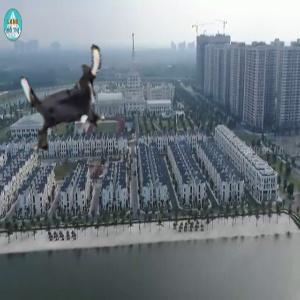drone: (13, 47, 122, 156)
